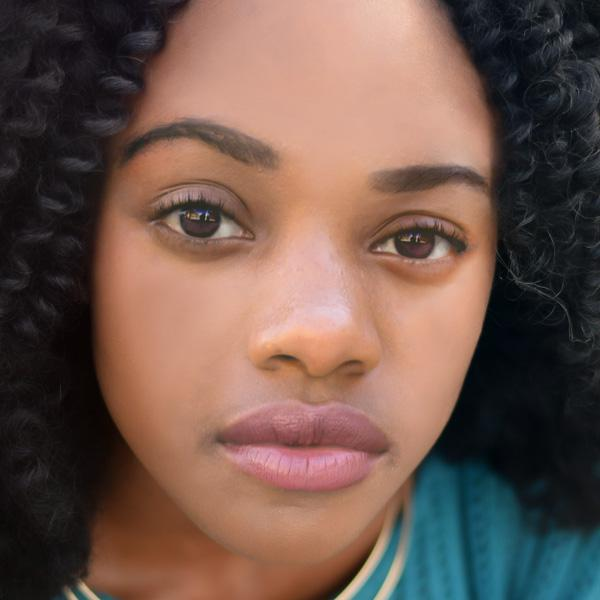Eyes: (138, 174, 264, 270), (361, 196, 478, 291)
